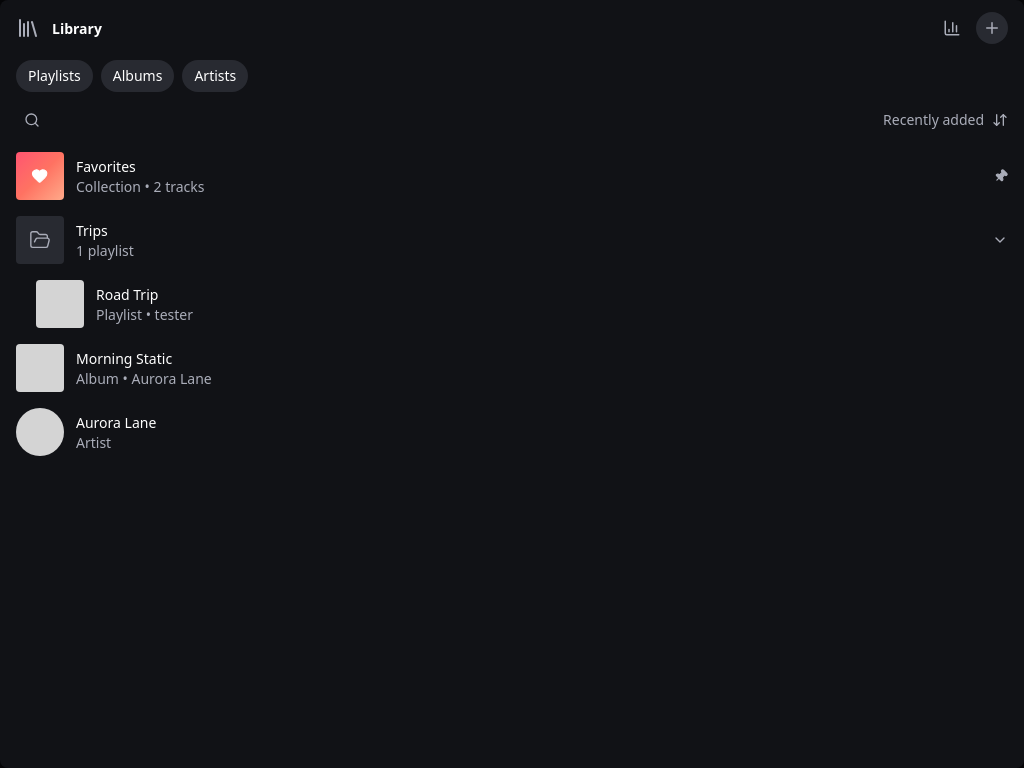
LibrarySidebar › shows folder children below the folder and collapses them
This screenshot has width=1024, height=768.
Expected: the text "Road Trip" is shown, x1=96 y1=284 x2=158 y2=304
Step 1. Click the button "Trips 1 playlist" → (40, 240), box x1=8 y1=208 x2=1016 y2=272
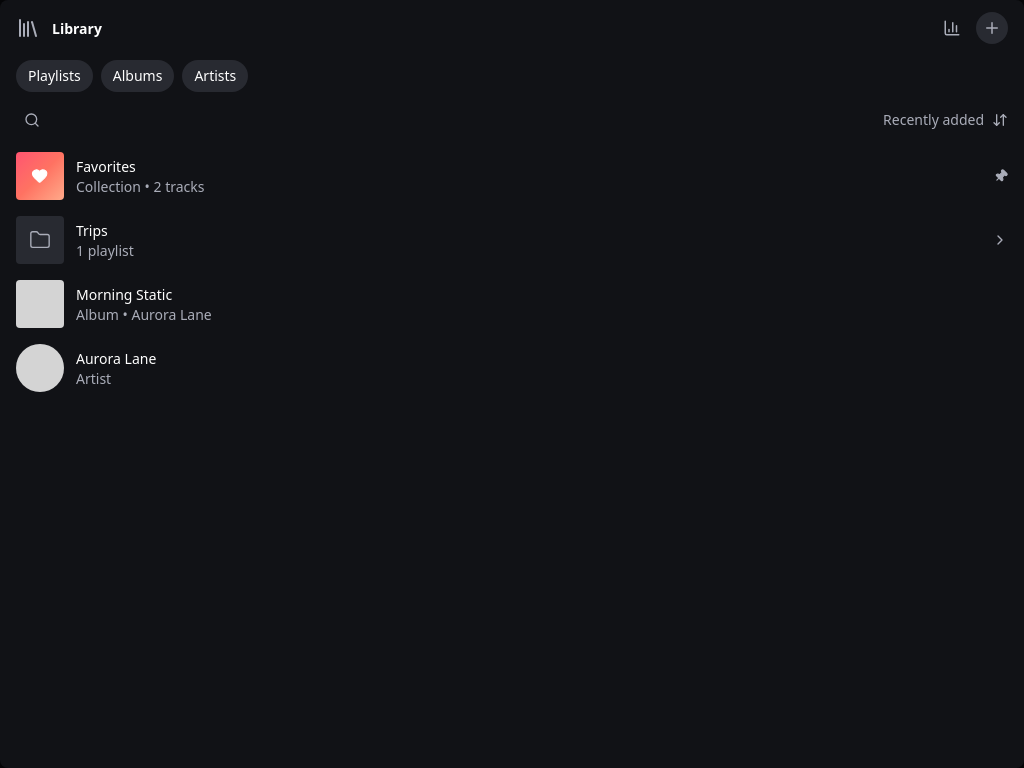
Expected: the link "Road Trip" is gone
Expected: the button "Trips 1 playlist" is collapsed, x1=8 y1=208 x2=1016 y2=272
